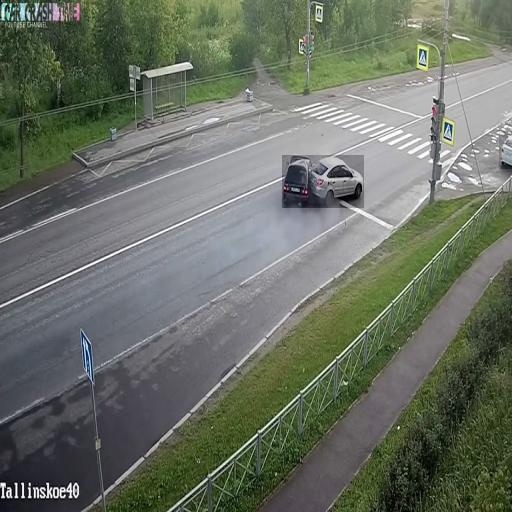小汽车: (499, 132, 512, 169)
小汽车撞小汽车: (282, 155, 364, 208)
